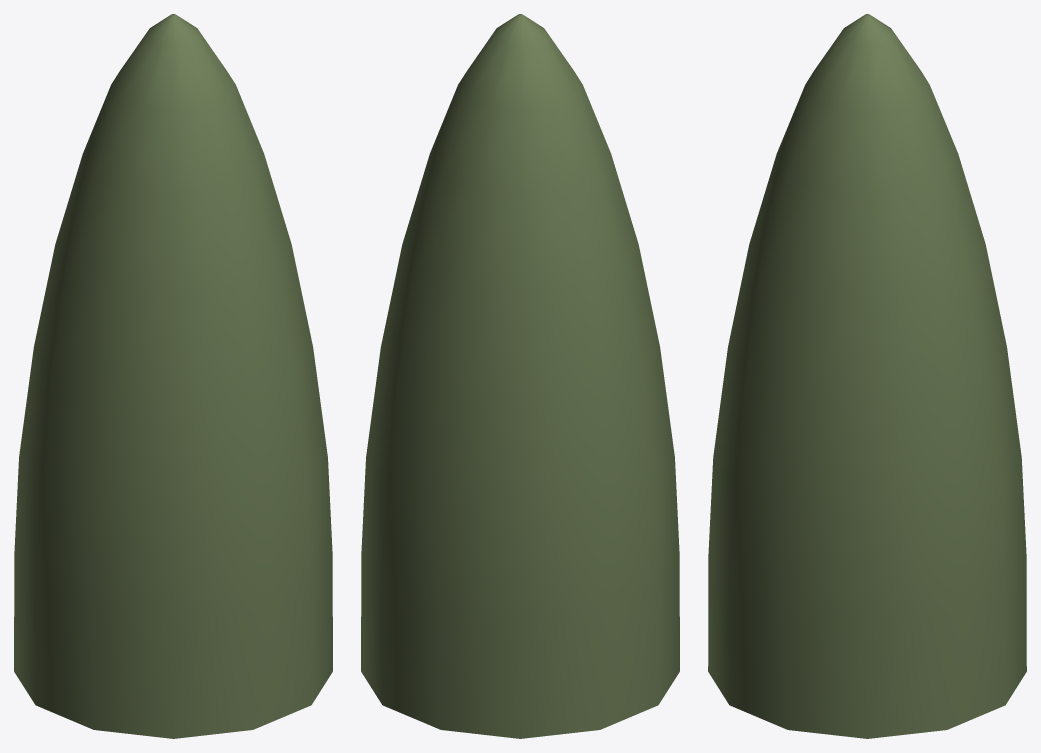
File: Flannelbush_Analytical_0.obj
The picture shows the model from 3 angles, left to right: view 1: azimuth 30°, elevation 25°; view 2: azimuth 150°, elevation 25°; view 3: azimuth 270°, elevation 25°; orthographic projection.
Visible parts, largest first — view 1: AnalyticalCrown; view 2: AnalyticalCrown; view 3: AnalyticalCrown.
Boxes of the visible parts, x1,y1,x2,y2 form: AnalyticalCrown: [14, 14, 332, 738]; AnalyticalCrown: [361, 14, 679, 738]; AnalyticalCrown: [708, 14, 1026, 738].
Bounding box in the file's own units: 1.32 × 3 × 1.32.
